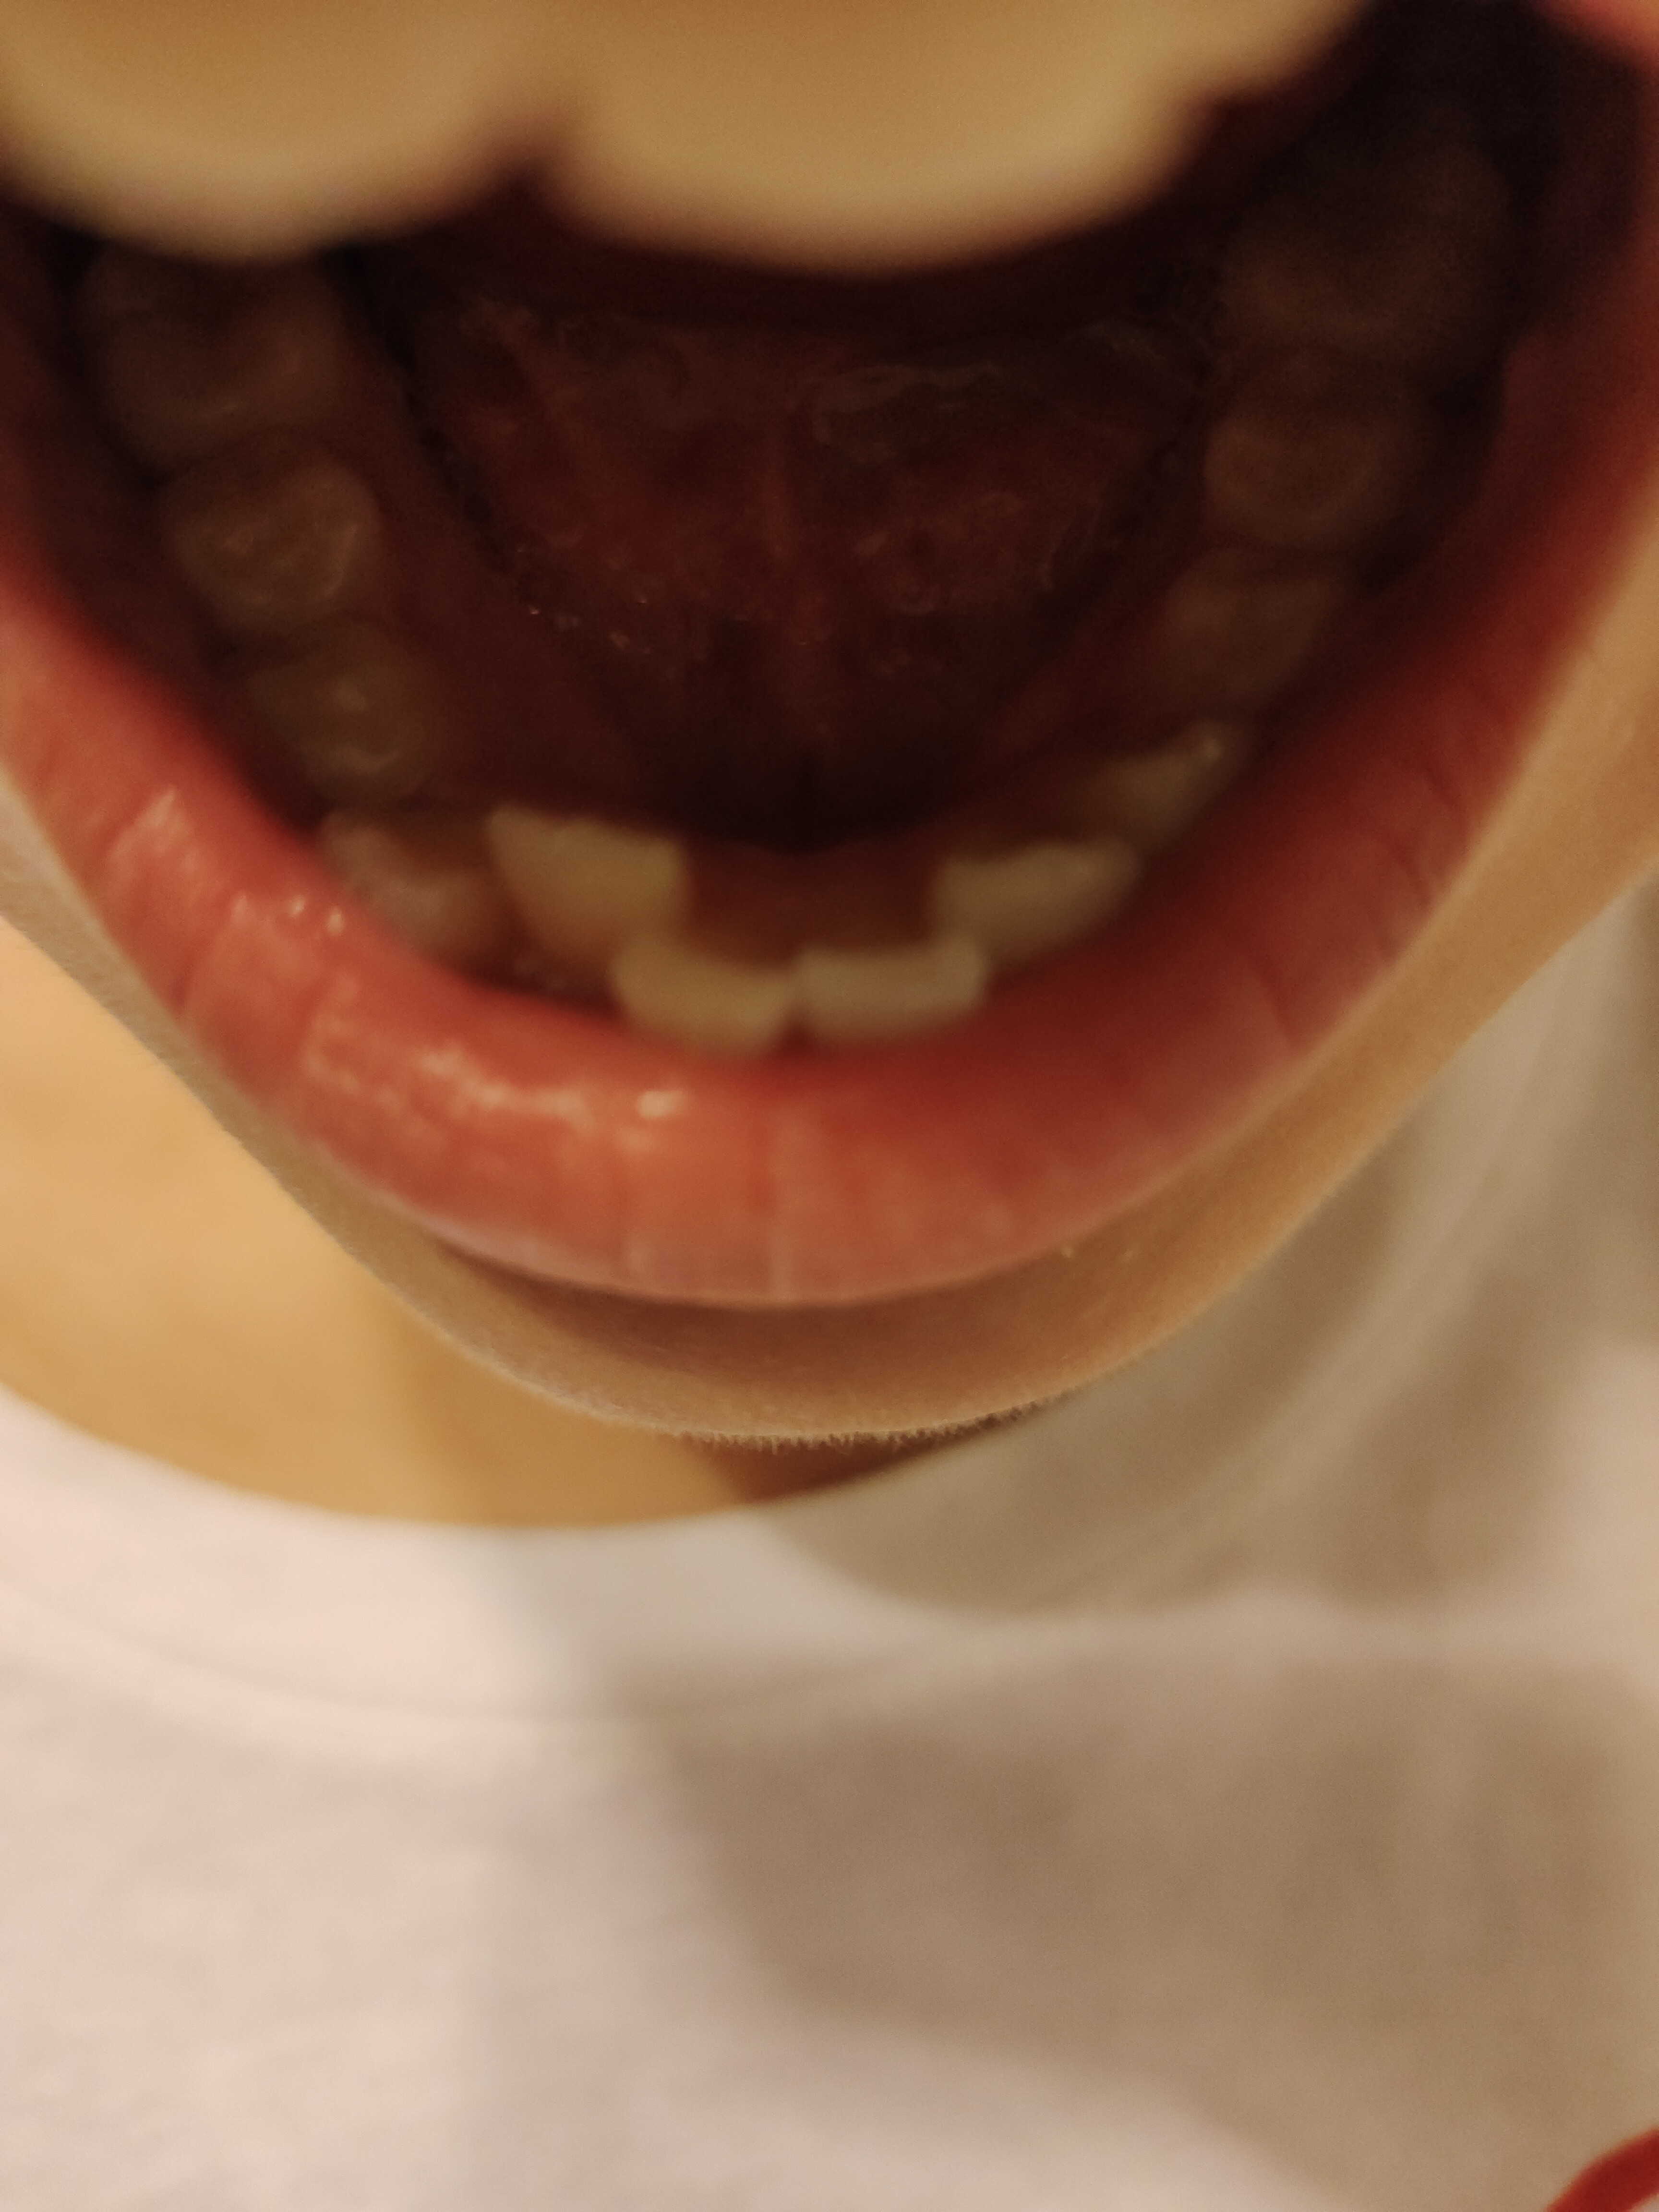teeth: (155, 435, 366, 634), (247, 625, 441, 798), (1227, 381, 1417, 510), (945, 817, 1129, 949), (504, 820, 666, 970), (336, 808, 477, 961), (617, 935, 769, 1049), (826, 944, 1007, 1031)
